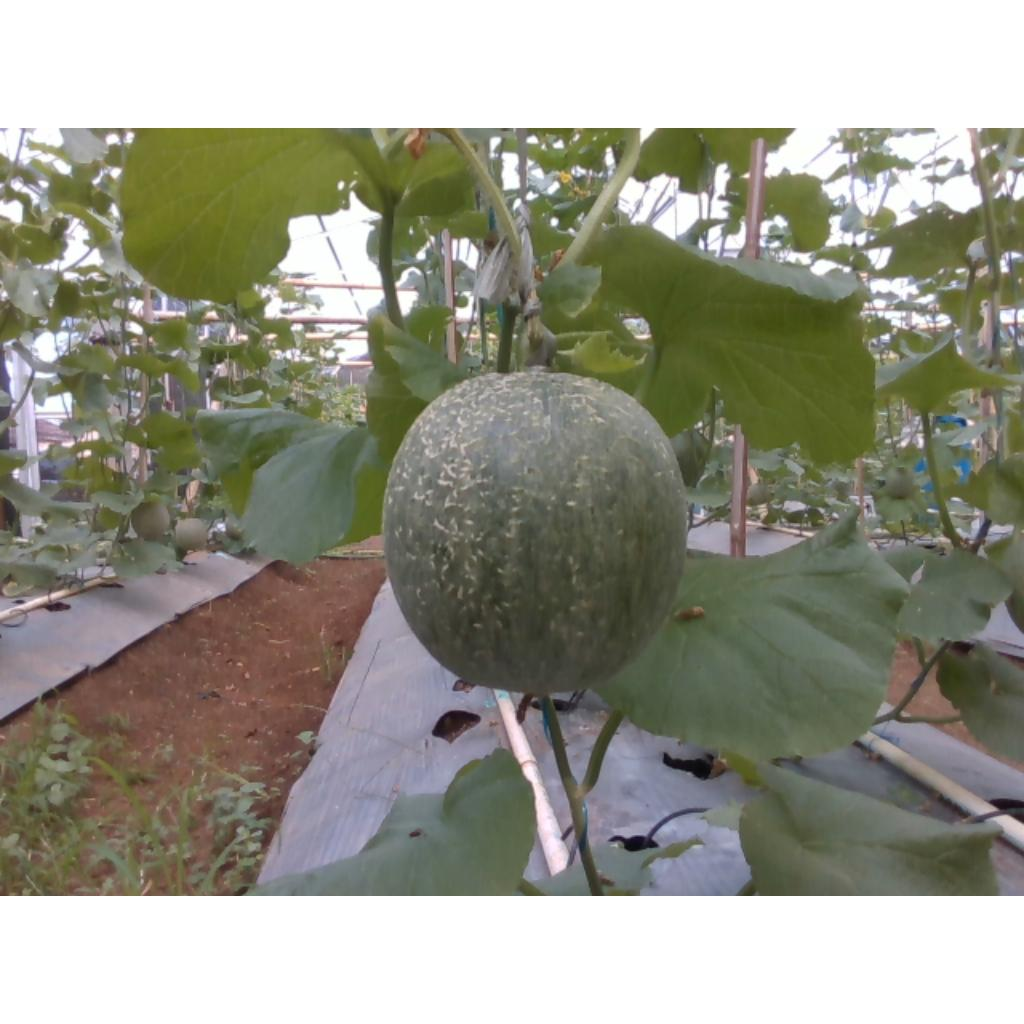melon: (382, 373, 686, 695)
